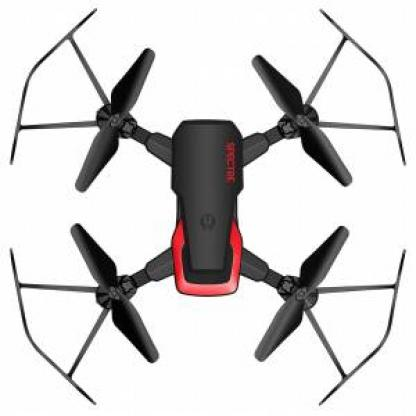drone: (7, 15, 412, 412)
